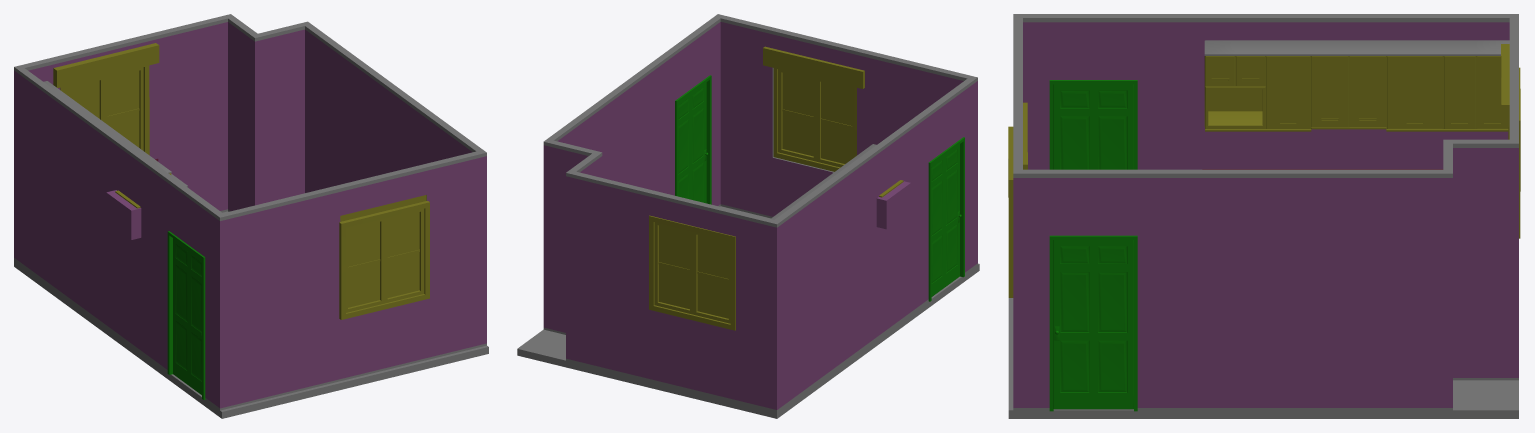
The model's file is FloorPlan14_Backup.fbx.
3 views of the same model, side by side, from view 1: azimuth 30°, elevation 25°; view 2: azimuth 150°, elevation 25°; view 3: azimuth 270°, elevation 25° (orthographic). The views are drawn at different scales.
Visible parts, largest first — view 1: StandardWallSize, Window (2), Window, Floor, StandardDoor1 (2), StandardDoorFrame1 (2), StandardUpperCabinetHeightWidth; view 2: StandardWallSize, Window (2), Window, Floor, StandardDoor1 (2), StandardDoor1, StandardDoorFrame1 (2), StandardDoorFrame1, StandardUpperCabinetHeightWidth; view 3: StandardWallSize, StandardDoor1, StandardUpperCabinetHeightWidth, Floor, StandardDoor1 (2), Cabinet (6), Cabinet (3), Cabinet (4), Cabinet (5), Cabinet (7), StandardDoorFrame1, Cabinet (8) (+5 smaller).
Part boxes in pixels (x1,y1,x2,y2): StandardWallSize: (14,14,486,410); Window (2): (339,195,429,319); Window: (53,43,159,155); Floor: (14,211,488,418); StandardDoor1 (2): (173,238,201,394); StandardDoorFrame1 (2): (167,231,205,399); StandardUpperCabinetHeightWidth: (43,81,171,208); StandardWallSize: (543,14,977,411); Window (2): (763,46,864,171); Window: (649,215,735,330); Floor: (517,206,979,418); StandardDoor1 (2): (931,144,959,296); StandardDoor1: (678,82,706,203); StandardDoorFrame1 (2): (928,137,964,301); StandardDoorFrame1: (675,75,711,204); StandardUpperCabinetHeightWidth: (771,144,903,219); StandardWallSize: (1013,14,1518,410); StandardDoor1: (1053,240,1133,409); StandardUpperCabinetHeightWidth: (1204,40,1509,131); Floor: (1008,298,1518,418); StandardDoor1 (2): (1053,84,1133,169); Cabinet (6): (1387,56,1442,128); Cabinet (3): (1266,56,1310,128); Cabinet (4): (1311,56,1348,126); Cabinet (5): (1349,56,1385,127); Cabinet (7): (1444,56,1475,128); StandardDoorFrame1: (1049,235,1137,411); Cabinet (8): (1477,56,1508,128).
Size of the model in its own units: 418 by 286 by 542.
